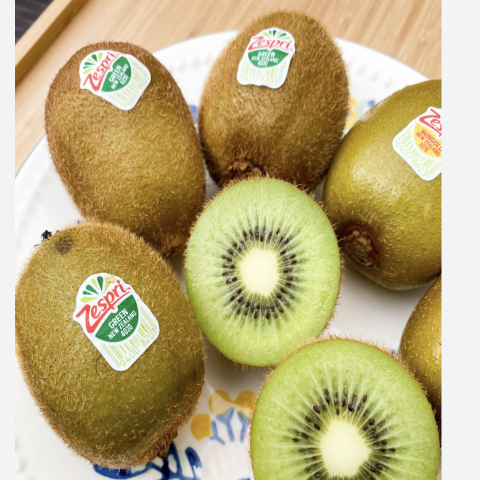kiwi: (5, 202, 228, 467), (45, 18, 203, 270), (188, 4, 365, 202)
